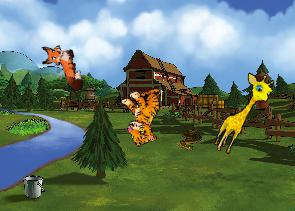fox: (38, 38, 85, 97)
giraffe: (210, 67, 278, 161)
tiger: (114, 82, 175, 148)
